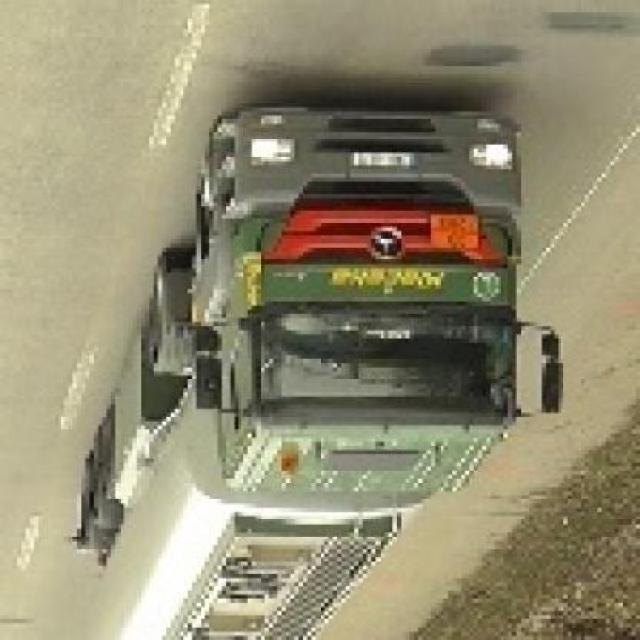truck: (74, 99, 560, 640)
